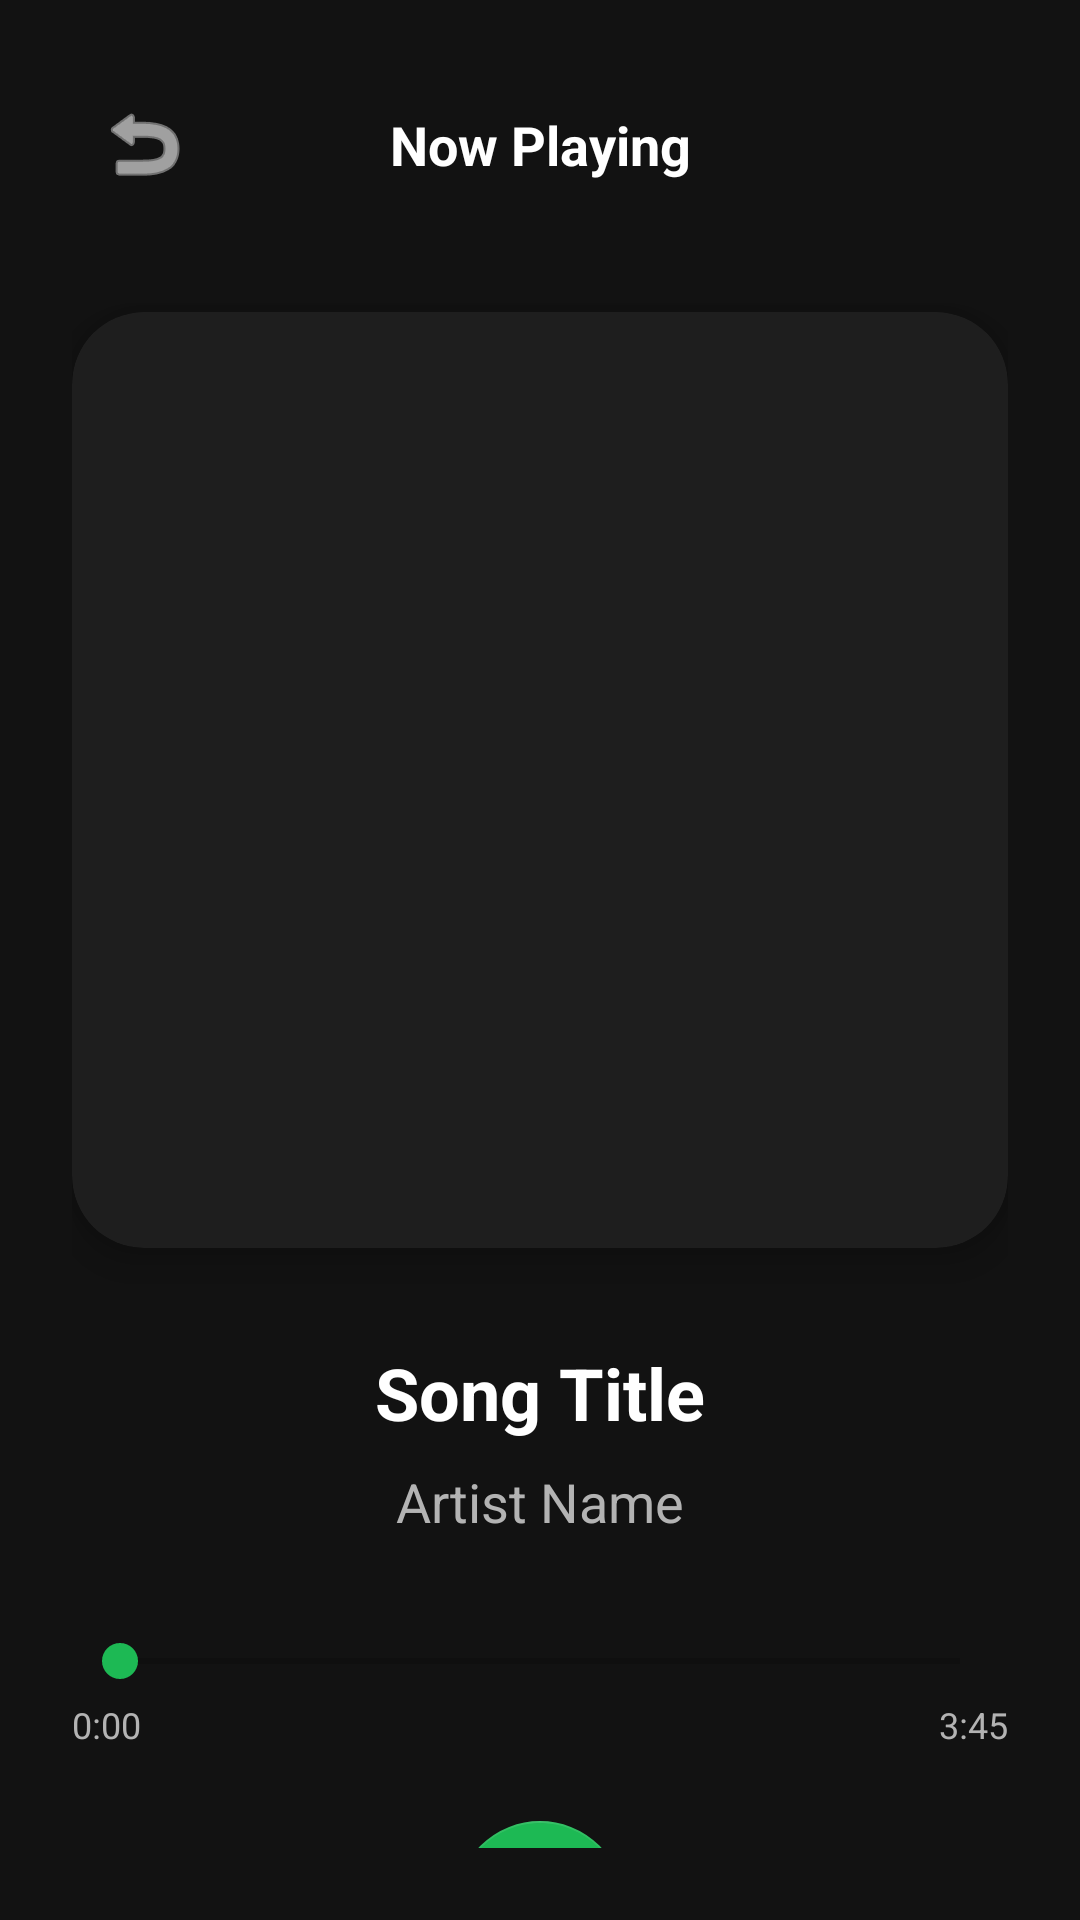

Screen size 1080×1920. Icon name, then its center in pixels as [x,y]:
revert: [145,144]
